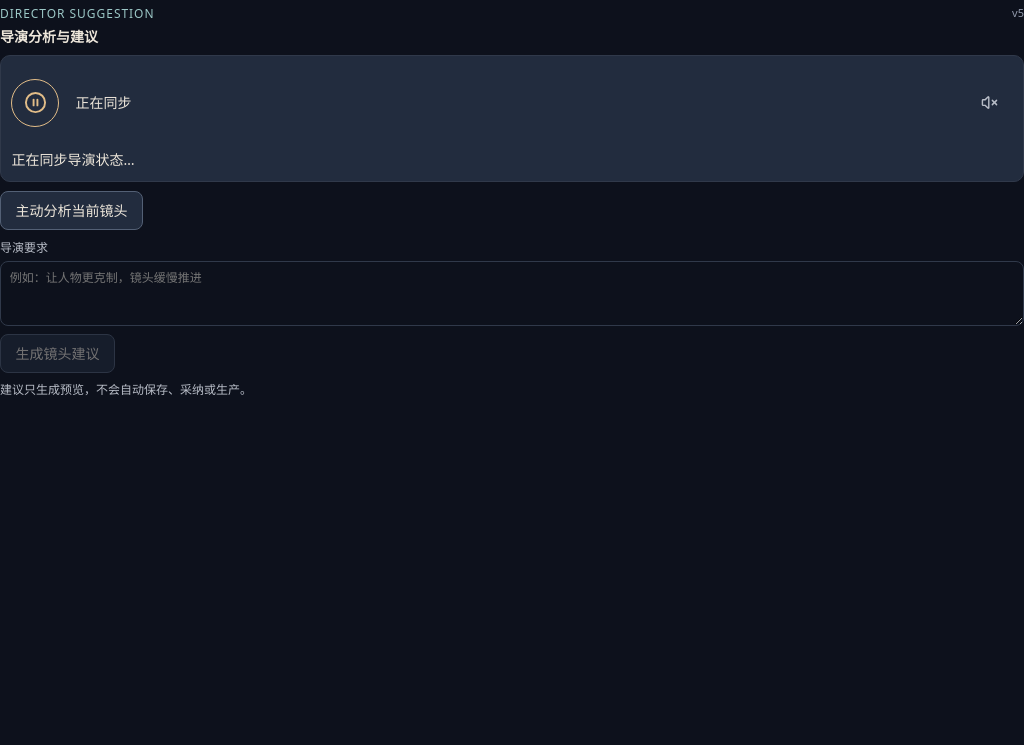
Test: ShotDirectorSuggestionPanel › does not touch the draft when the durable decision fails
Type "要求" into the text box labelled "导演要求".
click(512, 293); type("要求")  # box [0, 261, 1023, 326]
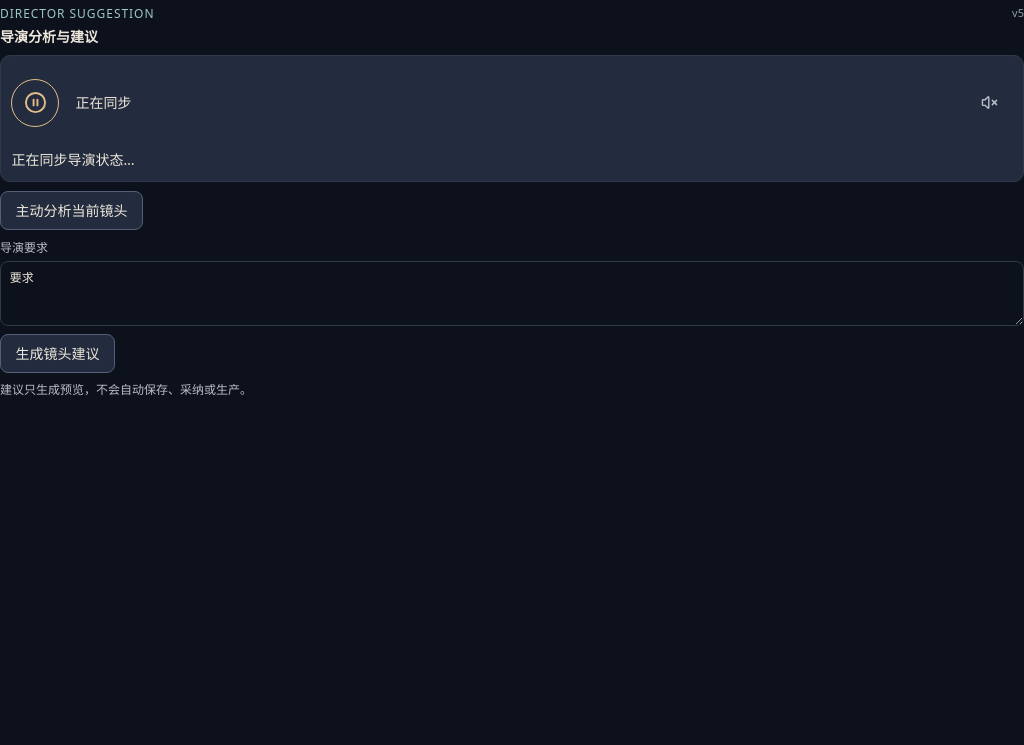
Click the button with test id "request-shot-director-suggestion".
click(57, 354)  # box [0, 334, 115, 373]
(page scrolled)
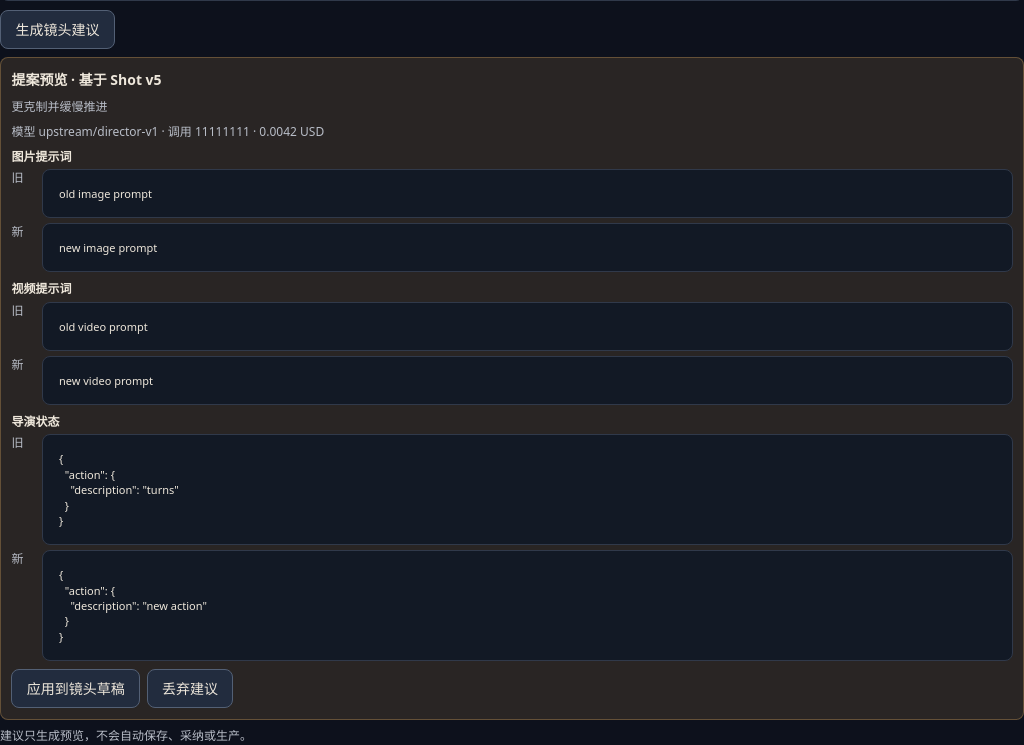
expect the element with test id "shot-director-suggestion-proposal" is shown: met
Click the button with test id "apply-shot-director-suggestion".
click(76, 689)  # box [11, 669, 140, 708]
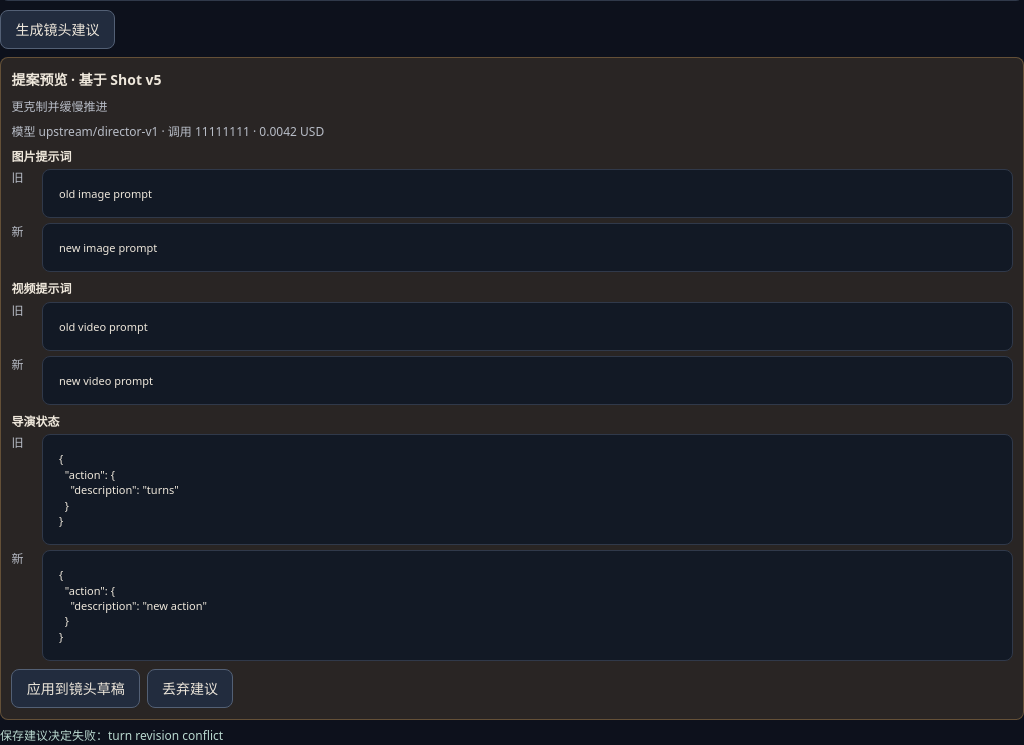
expect the text "保存建议决定失败：turn revision conflict" is shown: met, box [0, 727, 223, 744]
